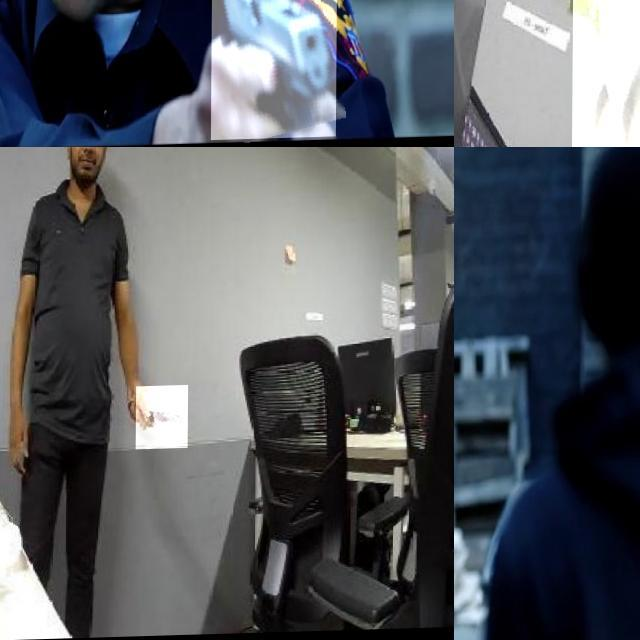-: (572, 0, 640, 147), (136, 386, 188, 451)
gun-knife-thesis - v11 Yolov5 augmented: (211, 0, 337, 142), (454, 249, 475, 329)
